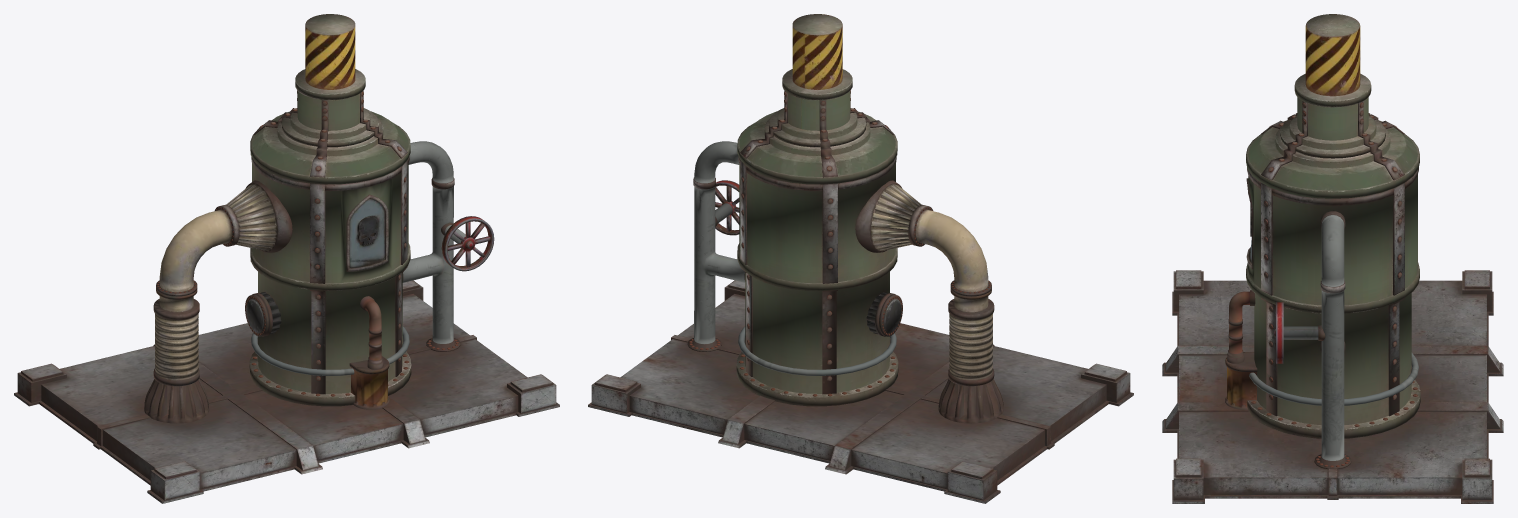
Rendered from machine.glb.
3 views of the same model, side by side, from view 1: azimuth 30°, elevation 25°; view 2: azimuth 150°, elevation 25°; view 3: azimuth 270°, elevation 25° (orthographic). The views are drawn at different scales.
Visible parts, largest first — view 1: Object_4, Object_10, Object_12, Object_24, Object_8, Object_16, Object_18, Object_6, Object_20; view 2: Object_4, Object_10, Object_12, Object_8, Object_24, Object_6, Object_20, Object_18; view 3: Object_10, Object_4, Object_8, Object_24, Object_16, Object_6, Object_18.
Boxes of the visible parts, x1,y1,x2,y2 form: Object_4: [14, 280, 559, 503]; Object_10: [249, 14, 411, 406]; Object_12: [144, 180, 292, 423]; Object_24: [251, 90, 409, 394]; Object_8: [251, 141, 460, 375]; Object_16: [349, 296, 389, 409]; Object_18: [441, 216, 494, 271]; Object_6: [157, 90, 458, 396]; Object_20: [245, 292, 281, 336]; Object_4: [588, 280, 1133, 503]; Object_10: [736, 14, 898, 406]; Object_12: [855, 180, 1003, 423]; Object_8: [687, 141, 896, 375]; Object_24: [738, 90, 896, 394]; Object_6: [689, 90, 990, 396]; Object_20: [866, 292, 902, 336]; Object_18: [715, 180, 739, 235]; Object_10: [1246, 14, 1420, 438]; Object_4: [1162, 270, 1503, 503]; Object_8: [1249, 211, 1418, 469]; Object_24: [1247, 101, 1418, 416]; Object_16: [1225, 290, 1257, 409]; Object_6: [1226, 102, 1417, 467]; Object_18: [1274, 302, 1325, 363].
Size of the model in its own units: 11.34 by 9.98 by 7.79.
10 materials, 10 textured.
